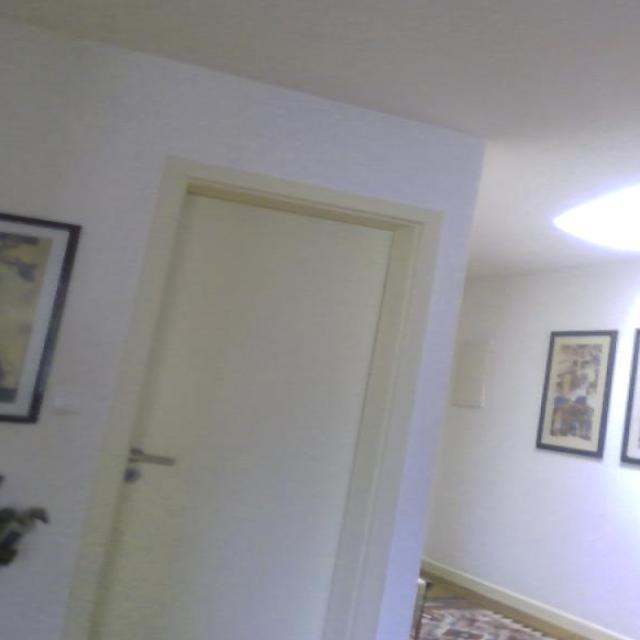door: (60, 155, 441, 638)
